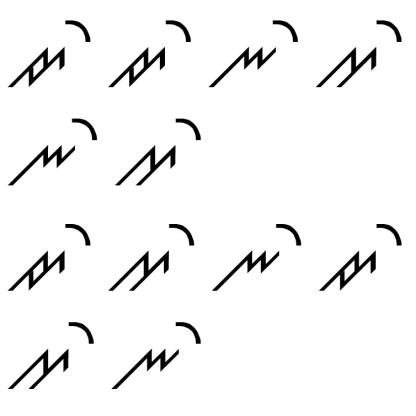jay: (317, 218, 404, 298), (106, 14, 197, 90), (3, 219, 95, 294), (5, 19, 92, 96)
nyay: (109, 318, 209, 397), (207, 12, 304, 91), (210, 218, 306, 295), (6, 110, 100, 188)
say: (112, 112, 207, 191), (103, 220, 195, 296), (315, 15, 408, 89), (5, 320, 96, 393)
